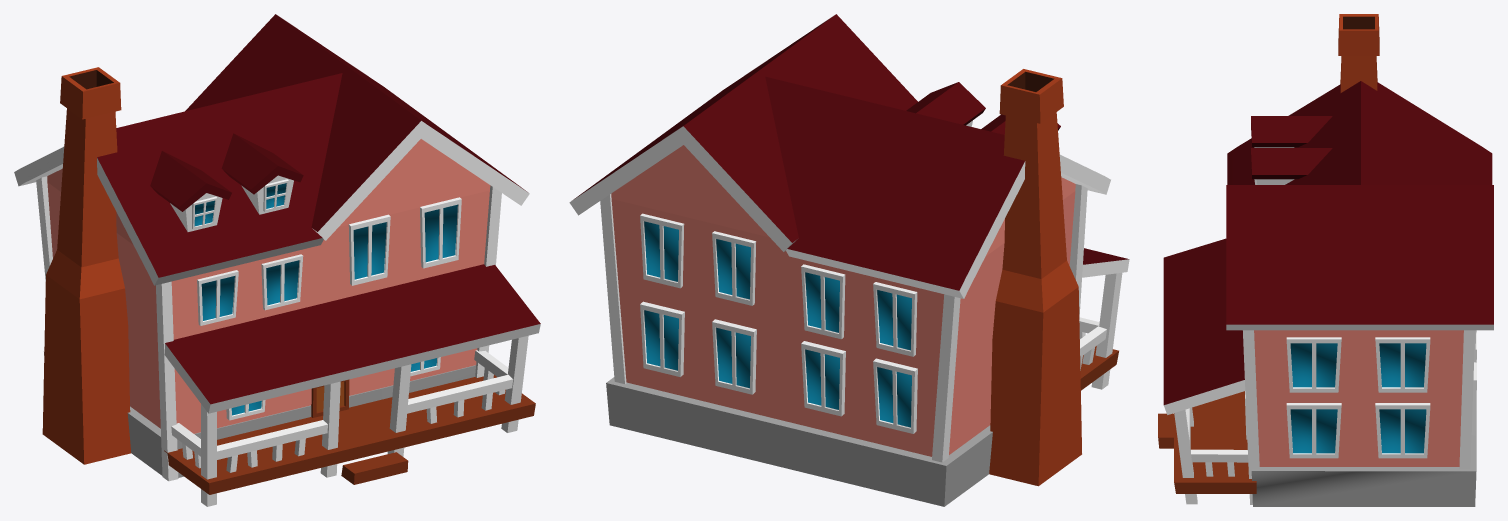
File: Big_House_3.fbx
The picture shows the model from 3 angles, left to right: view 1: azimuth 30°, elevation 25°; view 2: azimuth 150°, elevation 25°; view 3: azimuth 270°, elevation 25°; orthographic projection. The views are drawn at different scales.
Parts seen in each view (by area): view 1: Big_House_Roof, Big_House_Poarch_Roof, Big_House_Walls, Big_House_Chimney, Big_House_Columns, Big_House_Poarch, Barn_Big_Window_Front, Big_House_High_Windows, Big_House_Base, Big_House_Door; view 2: Big_House_Roof, Big_House_Walls, Big_House_Chimney, Barn_Big_Window_Back, Big_House_Base, Big_House_Columns, Big_House_High_Windows, Big_House_Poarch_Roof, Big_House_Poarch; view 3: Big_House_Roof, Big_House_Walls, Barn_Big_Window_Side, Big_House_Poarch_Roof, Big_House_Base, Big_House_Poarch, Big_House_Columns, Big_House_High_Windows, Big_House_Chimney, Barn_Big_Window_Back.
Boxes of the visible parts, bbox=[...] form: Big_House_Roof: bbox=[14, 14, 529, 285]; Big_House_Poarch_Roof: bbox=[164, 264, 540, 413]; Big_House_Walls: bbox=[47, 139, 490, 433]; Big_House_Chimney: bbox=[42, 67, 130, 464]; Big_House_Columns: bbox=[36, 176, 528, 506]; Big_House_Poarch: bbox=[164, 375, 535, 494]; Barn_Big_Window_Front: bbox=[197, 197, 461, 420]; Big_House_High_Windows: bbox=[150, 133, 303, 231]; Big_House_Base: bbox=[44, 352, 475, 477]; Big_House_Door: bbox=[311, 379, 349, 417]; Big_House_Roof: bbox=[569, 14, 1110, 298]; Big_House_Walls: bbox=[611, 145, 1075, 456]; Big_House_Chimney: bbox=[989, 69, 1081, 486]; Barn_Big_Window_Back: bbox=[640, 213, 917, 433]; Big_House_Base: bbox=[606, 377, 992, 506]; Big_House_Columns: bbox=[600, 184, 1122, 462]; Big_House_High_Windows: bbox=[906, 82, 1060, 134]; Big_House_Poarch_Roof: bbox=[1082, 248, 1129, 277]; Big_House_Poarch: bbox=[1080, 346, 1118, 390]; Big_House_Roof: bbox=[1226, 81, 1493, 330]; Big_House_Walls: bbox=[1254, 330, 1463, 466]; Barn_Big_Window_Side: bbox=[1286, 337, 1430, 458]; Big_House_Poarch_Roof: bbox=[1163, 238, 1245, 414]; Big_House_Base: bbox=[1251, 401, 1476, 506]; Big_House_Poarch: bbox=[1158, 391, 1256, 493]; Big_House_Columns: bbox=[1174, 330, 1474, 504]; Big_House_High_Windows: bbox=[1251, 116, 1332, 184]; Big_House_Chimney: bbox=[1338, 14, 1379, 92]; Barn_Big_Window_Back: bbox=[1471, 330, 1476, 435].
Size of the model in its own units: 453 by 398 by 364.
